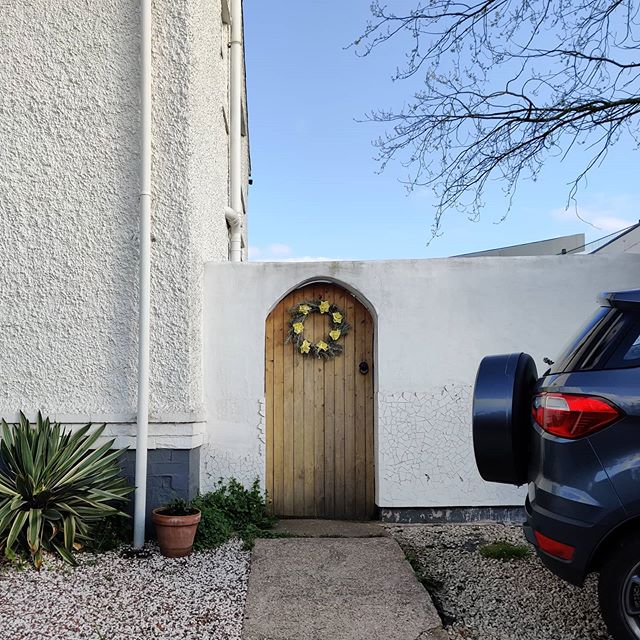building: (1, 1, 239, 521)
car: (473, 289, 640, 640)
door: (257, 269, 384, 519)
sky: (248, 1, 640, 261)
tree: (379, 1, 640, 225)
